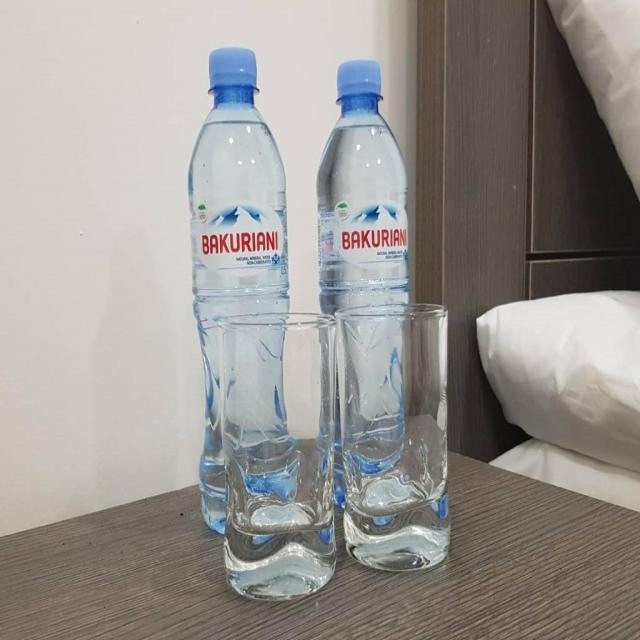bottle: (190, 54, 286, 524)
